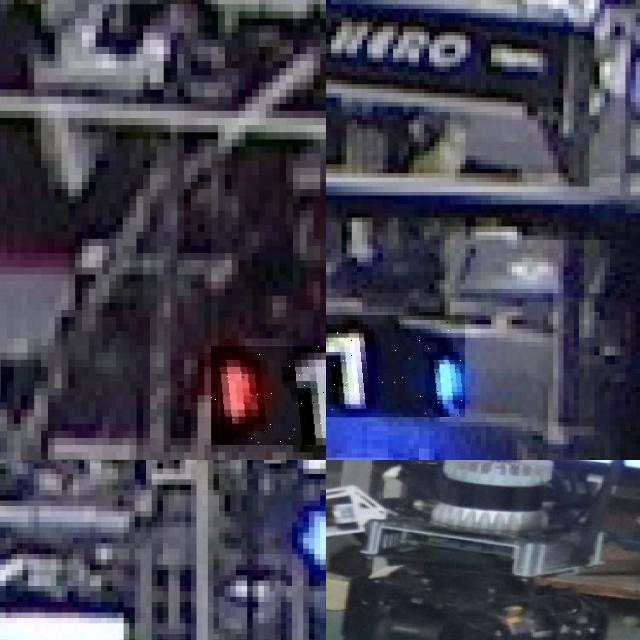B1: (326, 315, 465, 417)
R1: (211, 345, 326, 445)
